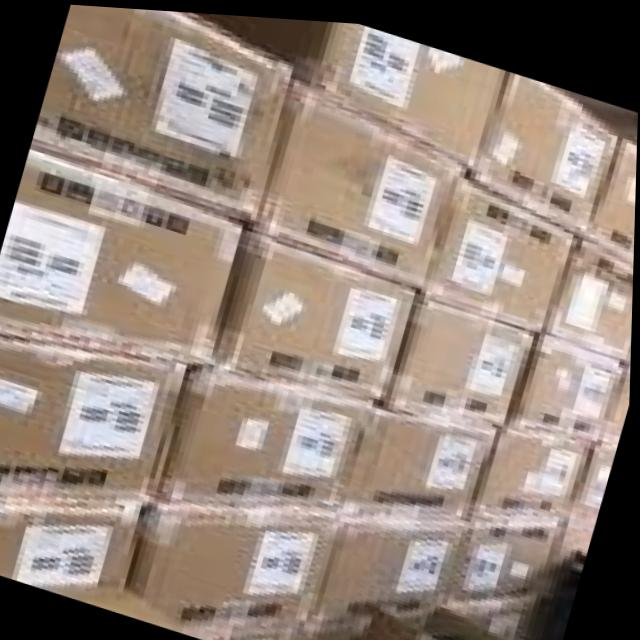box: (31, 4, 294, 217), (0, 146, 244, 360), (200, 10, 505, 162), (254, 75, 467, 281), (217, 229, 416, 393), (162, 364, 375, 503), (0, 338, 188, 495), (127, 498, 336, 622), (470, 65, 619, 228), (421, 171, 579, 324), (390, 289, 535, 418), (343, 401, 498, 514), (315, 515, 467, 612), (0, 495, 143, 584), (510, 325, 626, 433), (476, 419, 588, 508), (552, 232, 635, 352), (451, 510, 561, 593), (359, 600, 526, 640), (589, 123, 638, 253), (40, 586, 180, 629), (450, 591, 533, 636), (574, 437, 618, 504), (187, 616, 309, 640), (604, 355, 633, 436), (554, 506, 600, 555), (310, 608, 374, 640)
